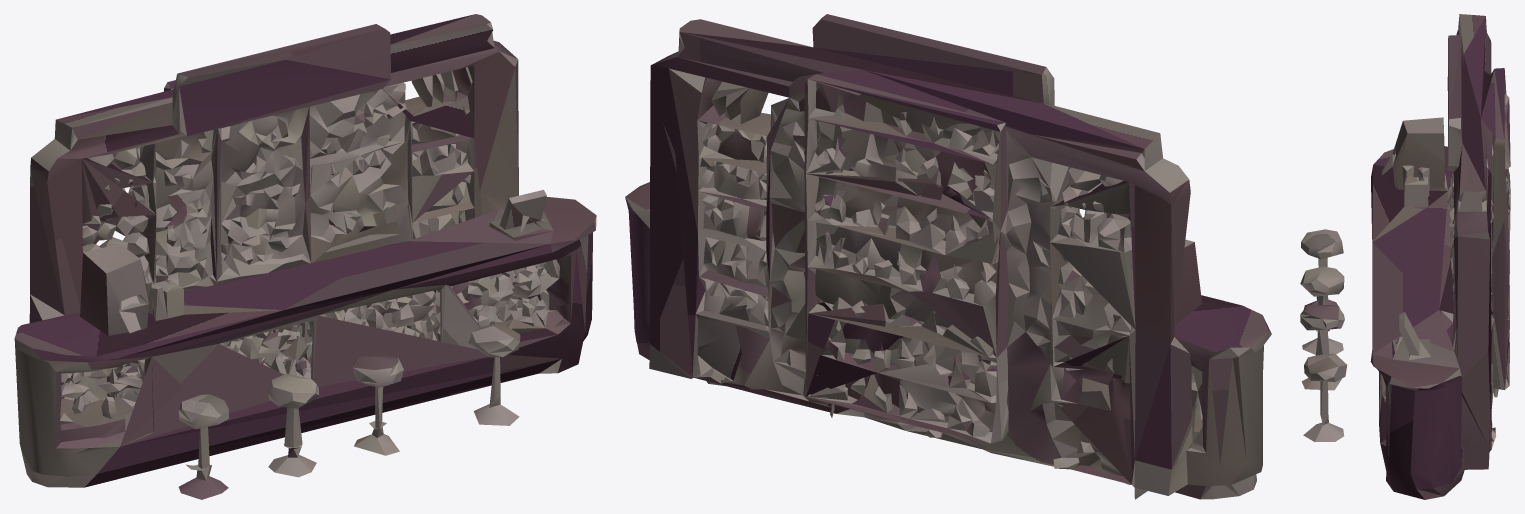
File: prizecounter.glb
3 renders of one model, left to right at view 1: azimuth 30°, elevation 25°; view 2: azimuth 150°, elevation 25°; view 3: azimuth 270°, elevation 25°, orthographic. The views are drawn at different scales.
Visible parts, largest first — view 1: Mesh_0; view 2: Mesh_0; view 3: Mesh_0.
Boxes of the visible parts, x1,y1,x2,y2 form: Mesh_0: [14, 14, 596, 499]; Mesh_0: [625, 14, 1271, 499]; Mesh_0: [1300, 14, 1510, 499].
Size of the model in its own units: 1.89 by 1.12 by 0.699.
Materials: 1 (1 with a texture image).
